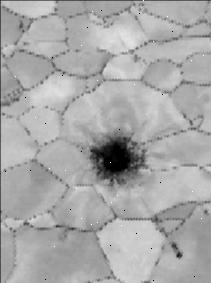good_void: (83, 129, 147, 192), (167, 239, 186, 261), (95, 16, 114, 29), (57, 228, 71, 243), (132, 53, 145, 65), (20, 39, 31, 47), (202, 208, 210, 218), (16, 19, 24, 29)
